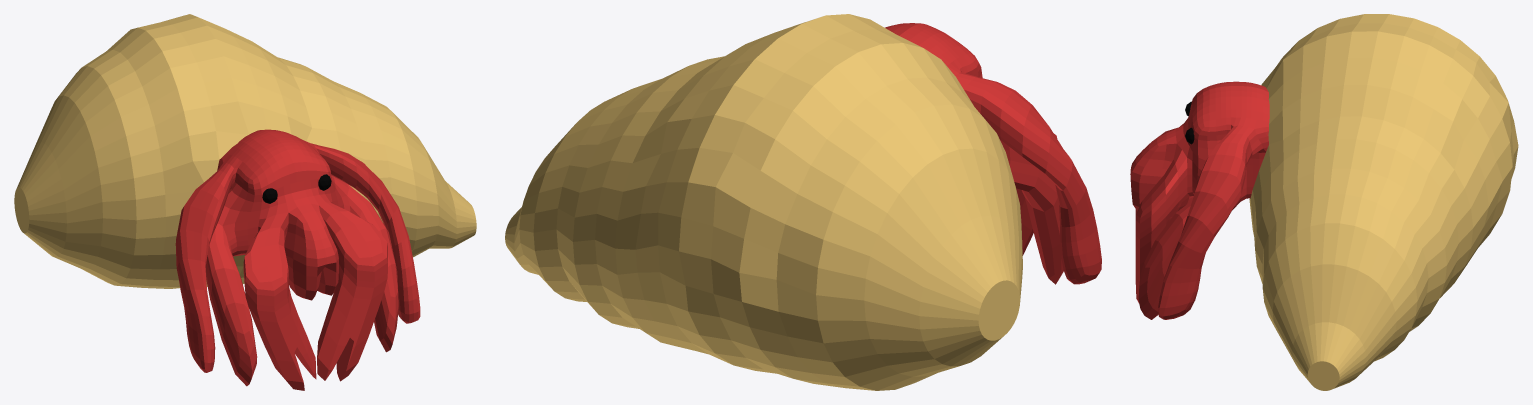
Rendered from cute hermit crab.fbx.
3 renders of one model, left to right at view 1: azimuth 30°, elevation 25°; view 2: azimuth 150°, elevation 25°; view 3: azimuth 270°, elevation 25°, orthographic. The views are drawn at different scales.
Parts seen in each view (by area): view 1: Cylinder, crab; view 2: Cylinder, crab; view 3: Cylinder, crab.
Boxes of the visible parts, <box> form: Cylinder: <box>14,14,476,288</box>; crab: <box>175,129,420,390</box>; Cylinder: <box>505,14,1022,390</box>; crab: <box>885,23,1101,284</box>; Cylinder: <box>1249,14,1518,390</box>; crab: <box>1130,81,1269,319</box>.
Bounding box in the file's own units: 479 × 304 × 396.
